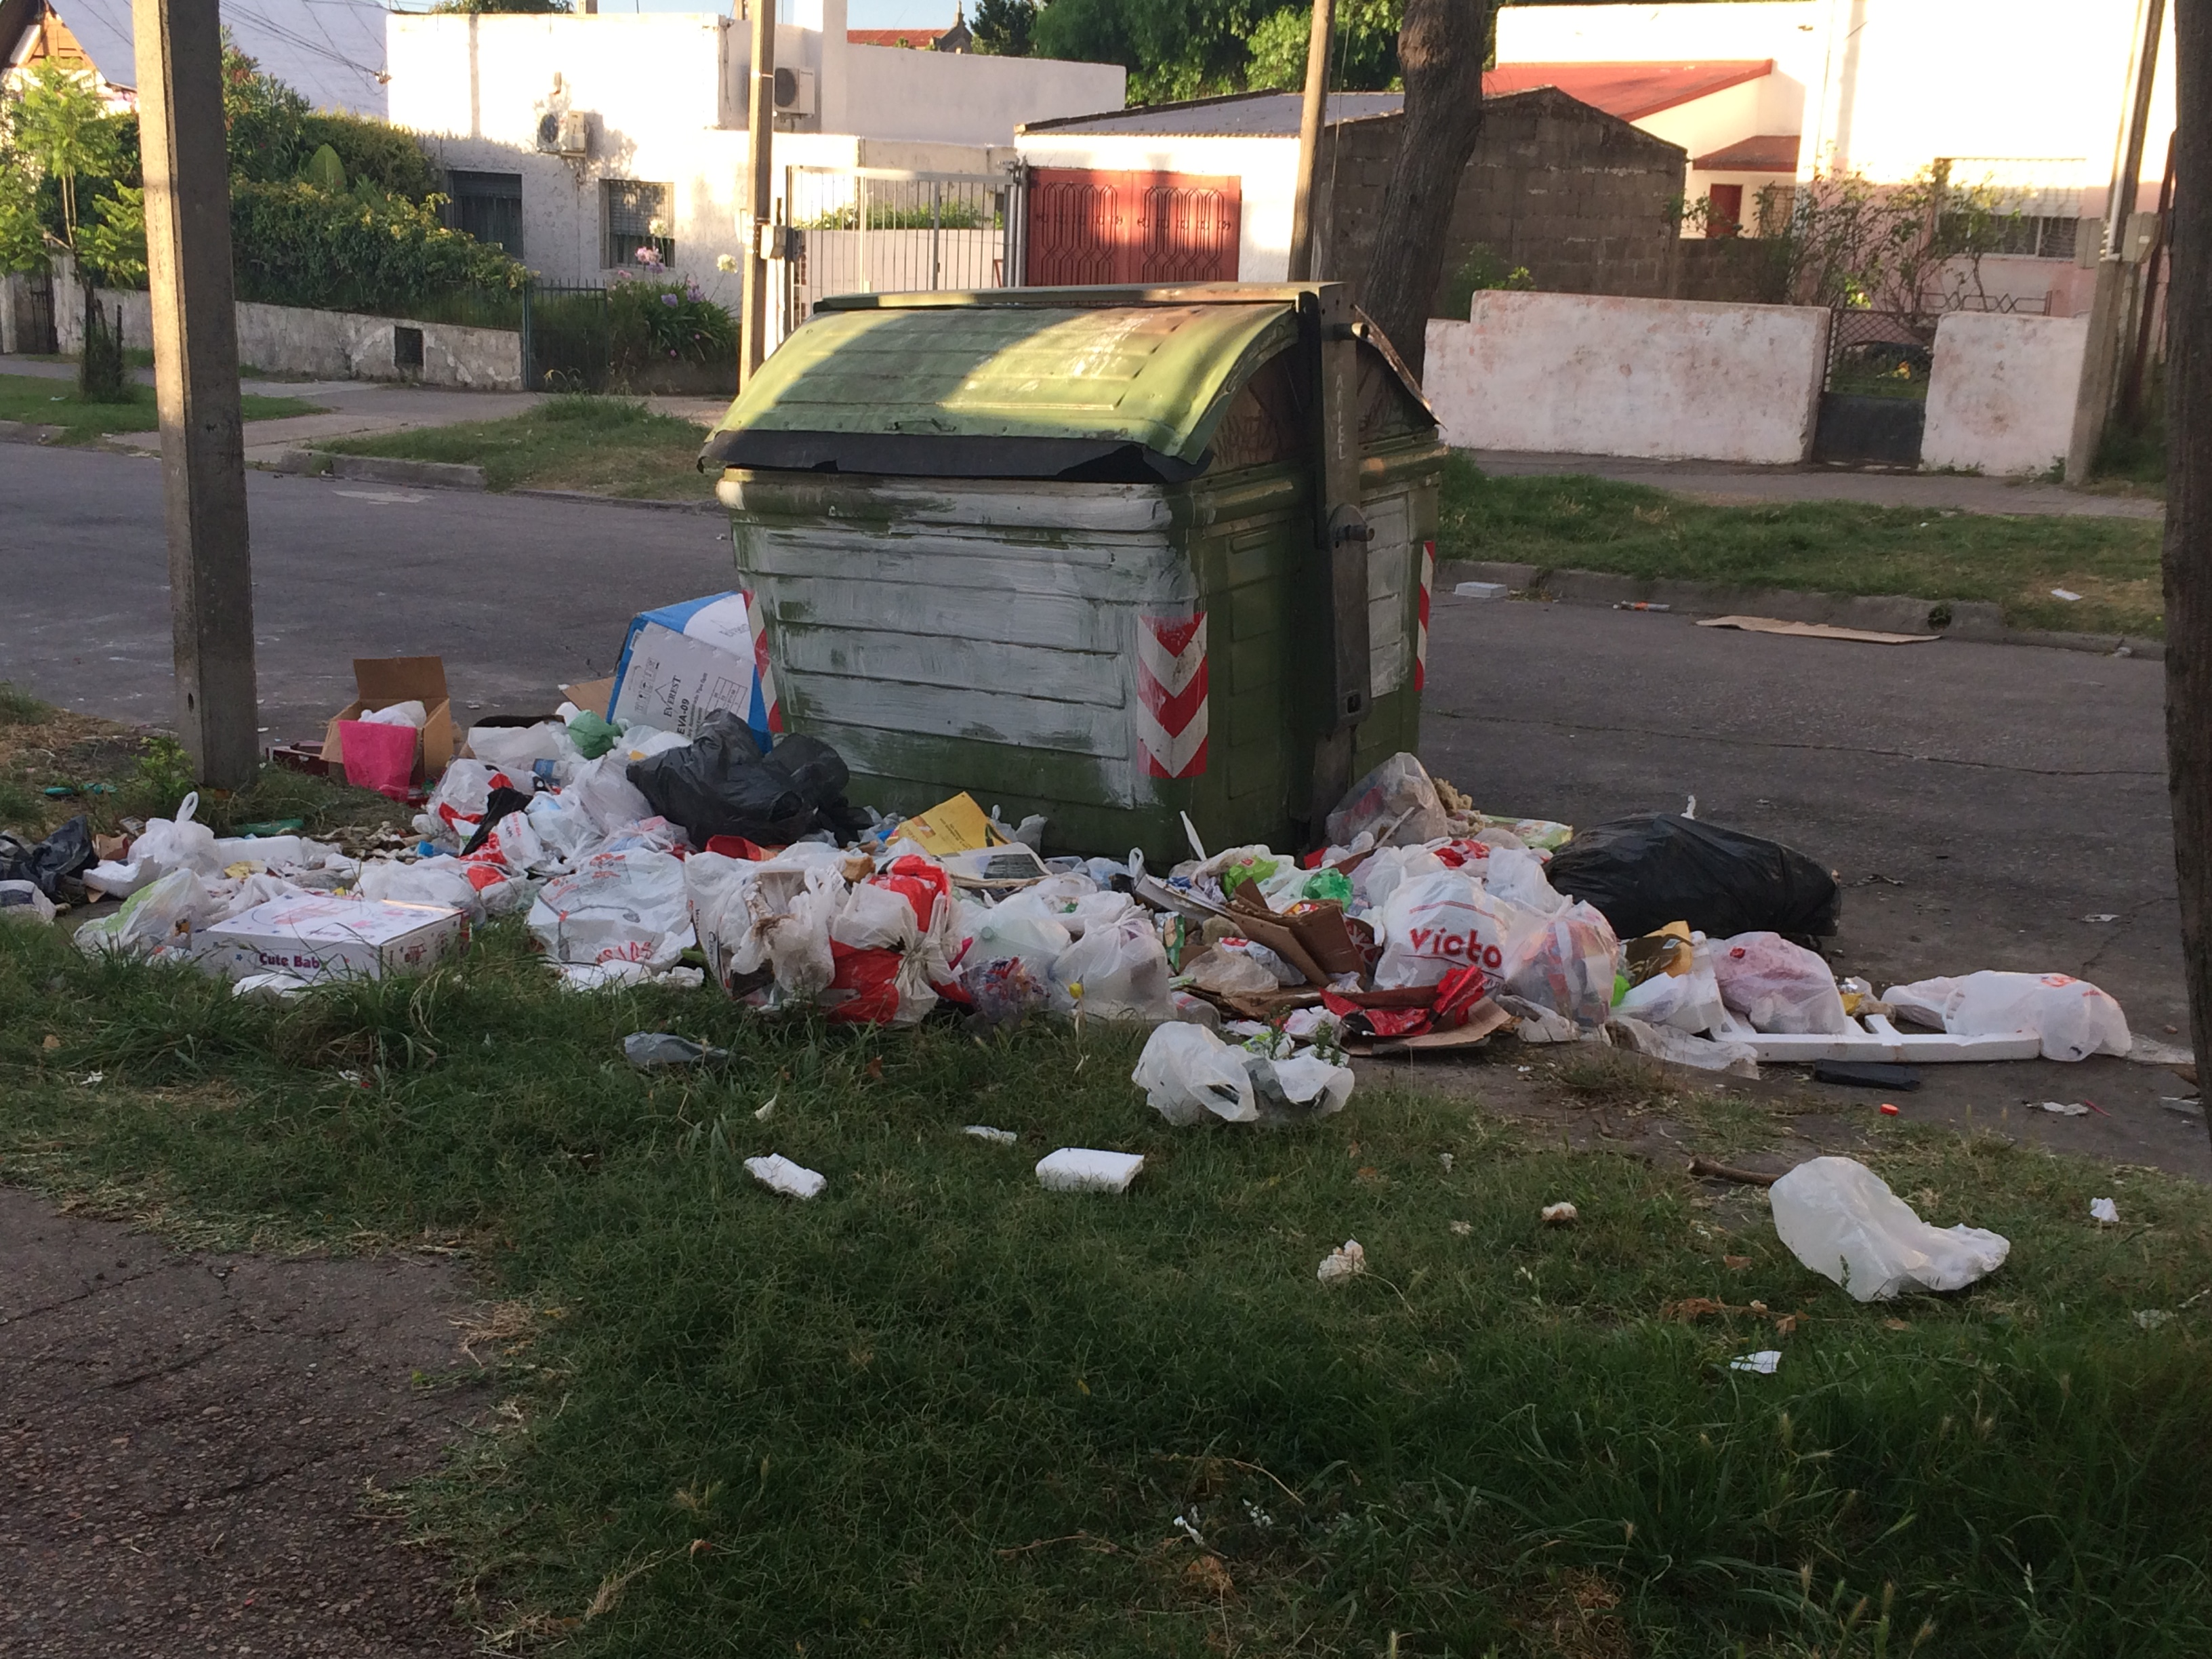container: (707, 281, 1456, 885)
